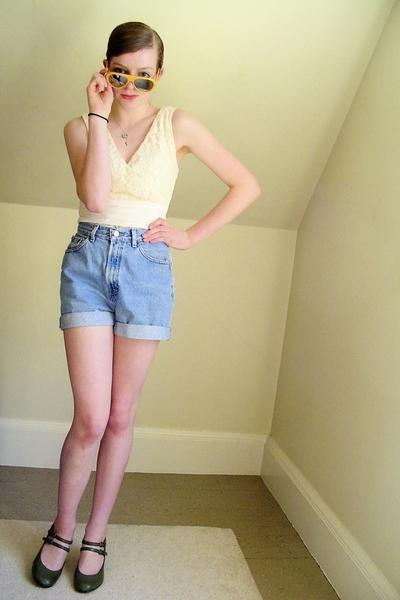shirt: (74, 115, 178, 232)
shoe: (25, 554, 103, 593)
shorts: (38, 222, 173, 554)
sunglass: (99, 64, 153, 98)
